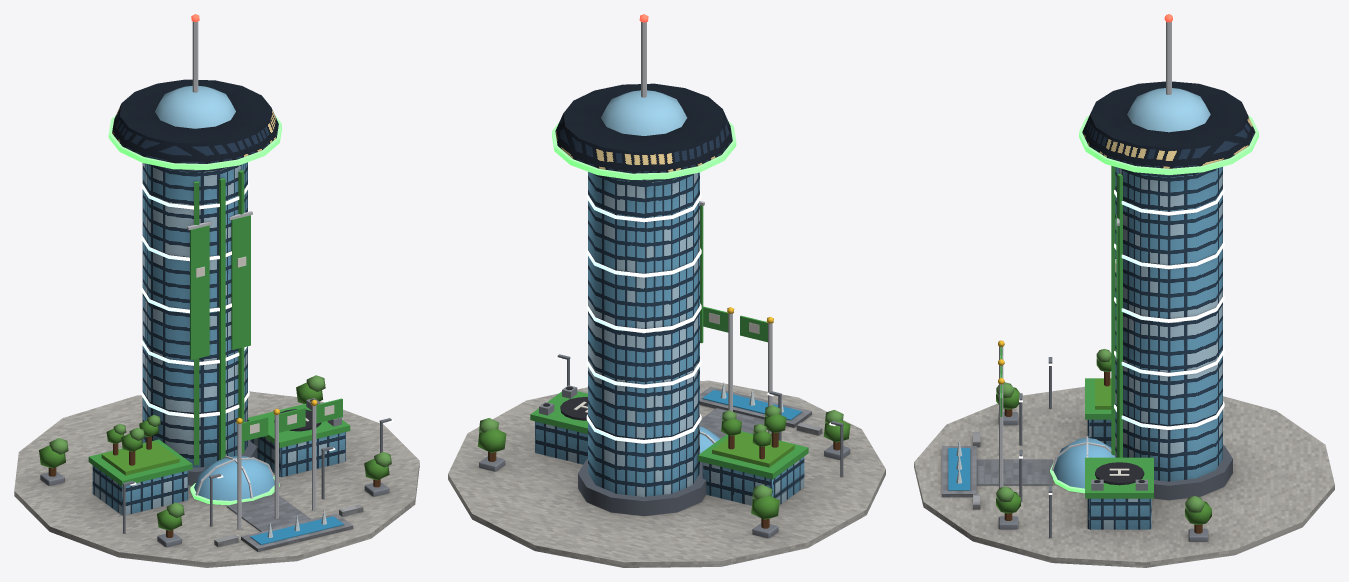
Rendered from residence_dl7_green.glb.
3 renders of one model, left to right at view 1: azimuth 30°, elevation 25°; view 2: azimuth 150°, elevation 25°; view 3: azimuth 270°, elevation 25°, orthographic. The views are drawn at different scales.
Parts seen in each view (by area): view 1: residence_dl7_green; view 2: residence_dl7_green; view 3: residence_dl7_green.
Boxes of the visible parts, left/top/right/bottom form: residence_dl7_green: left=14, top=14, right=419, bottom=567; residence_dl7_green: left=448, top=14, right=885, bottom=567; residence_dl7_green: left=914, top=14, right=1334, bottom=567.
Size of the model in its own units: 1.71 by 2.08 by 1.71.
5 materials, 1 textured.
